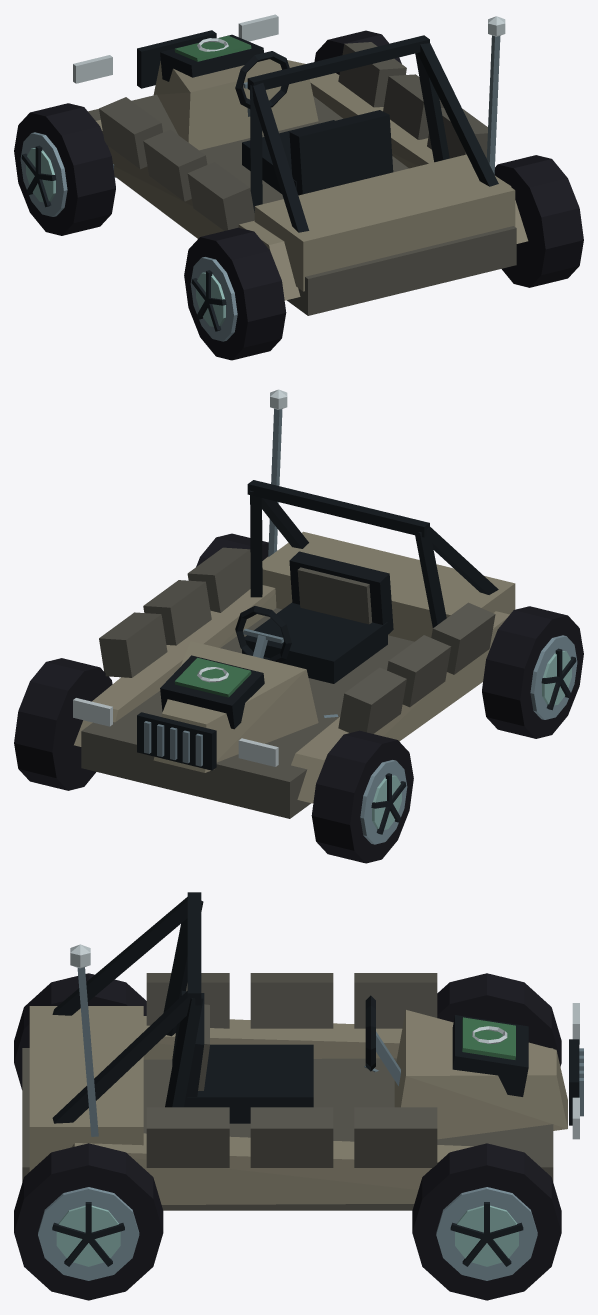
The model's file is kart.glb.
3 renders of one model, top to bottom at view 1: azimuth 30°, elevation 25°; view 2: azimuth 150°, elevation 25°; view 3: azimuth 270°, elevation 25°, orthographic. The views are drawn at different scales.
Visible parts, largest first — view 1: identity-buggy-buggy-offroad-frame, identity-buggy-motif-armor, wheel-rear-left, wheel-front-left, identity-buggy-driver-cockpit, wheel-rear-right, identity-buggy-motif-scanner, identity-buggy-motif-antenna, wheel-front-right; view 2: identity-buggy-buggy-offroad-frame, identity-buggy-motif-armor, identity-buggy-driver-cockpit, wheel-front-left, wheel-rear-left, wheel-front-right, identity-buggy-motif-scanner, identity-buggy-motif-antenna, wheel-rear-right; view 3: identity-buggy-buggy-offroad-frame, identity-buggy-motif-armor, wheel-rear-right, wheel-front-right, identity-buggy-driver-cockpit, wheel-front-left, identity-buggy-motif-scanner, wheel-rear-left, identity-buggy-motif-antenna.
Part boxes in pixels (x1,y1,x2,y2): identity-buggy-buggy-offroad-frame: (73, 14, 528, 315); identity-buggy-motif-armor: (99, 42, 487, 230); wheel-rear-left: (184, 227, 286, 360); wheel-front-left: (14, 103, 115, 235); identity-buggy-driver-cockpit: (235, 51, 393, 195); wheel-rear-right: (494, 155, 583, 287); identity-buggy-motif-scanner: (160, 34, 263, 81); identity-buggy-motif-antenna: (486, 16, 505, 174); wheel-front-right: (314, 30, 401, 74); identity-buggy-buggy-offroad-frame: (73, 480, 515, 818); identity-buggy-motif-armor: (99, 547, 495, 733); identity-buggy-driver-cockpit: (235, 551, 393, 683); wheel-front-left: (311, 730, 413, 863); wheel-rear-left: (482, 606, 583, 738); wheel-front-right: (14, 658, 112, 790); identity-buggy-motif-scanner: (160, 655, 264, 729); identity-buggy-motif-antenna: (268, 389, 287, 556); wheel-rear-right: (196, 533, 277, 566); identity-buggy-buggy-offroad-frame: (22, 892, 583, 1210); identity-buggy-motif-armor: (146, 973, 437, 1167); wheel-rear-right: (14, 1143, 163, 1300); wheel-front-right: (412, 1143, 561, 1300); identity-buggy-driver-cockpit: (172, 990, 400, 1123); wheel-front-left: (437, 973, 561, 1066); identity-buggy-motif-scanner: (452, 1015, 528, 1096); wheel-rear-left: (14, 973, 146, 1089); identity-buggy-motif-antenna: (70, 944, 98, 1136).
Size of the model in its own units: 2.31 by 1.72 by 2.75.
